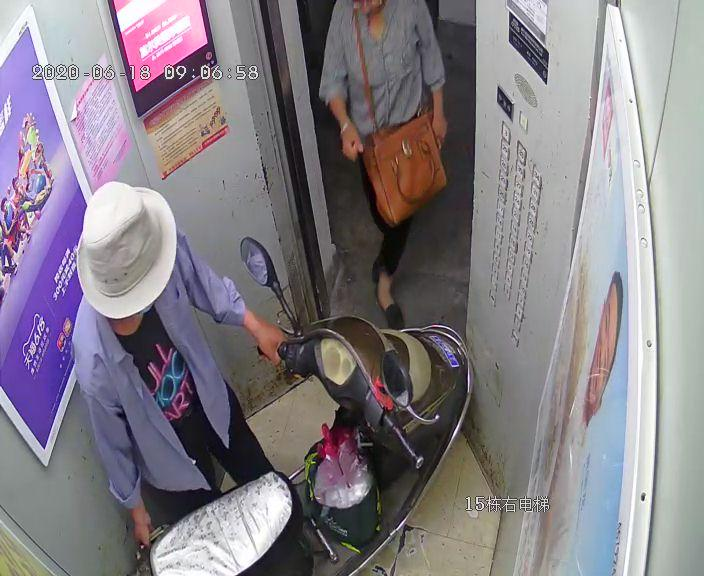Electric-bicycle: (129, 236, 469, 575)
